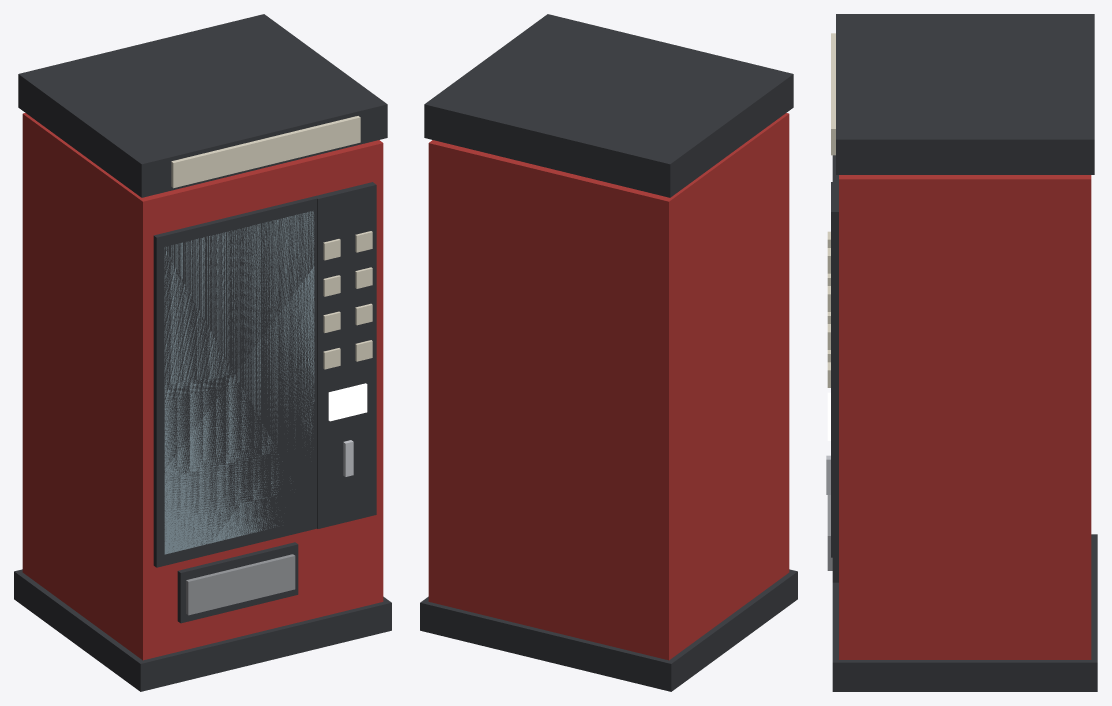
Rendered from vending.glb.
3 views of the same model, side by side, from view 1: azimuth 30°, elevation 25°; view 2: azimuth 150°, elevation 25°; view 3: azimuth 270°, elevation 25° (orthographic). The views are drawn at different scales.
Parts seen in each view (by area): view 1: vending; view 2: vending; view 3: vending.
Boxes of the visible parts, x1,y1,x2,y2 form: vending: (14,14,391,691); vending: (420,14,797,691); vending: (826,14,1097,691).
Size of the model in its own units: 0.94 by 1.88 by 0.84.
